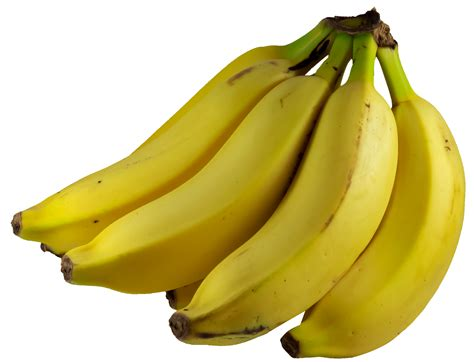banana: (57, 65, 337, 296), (11, 45, 300, 262), (168, 76, 400, 343), (285, 83, 467, 359)
